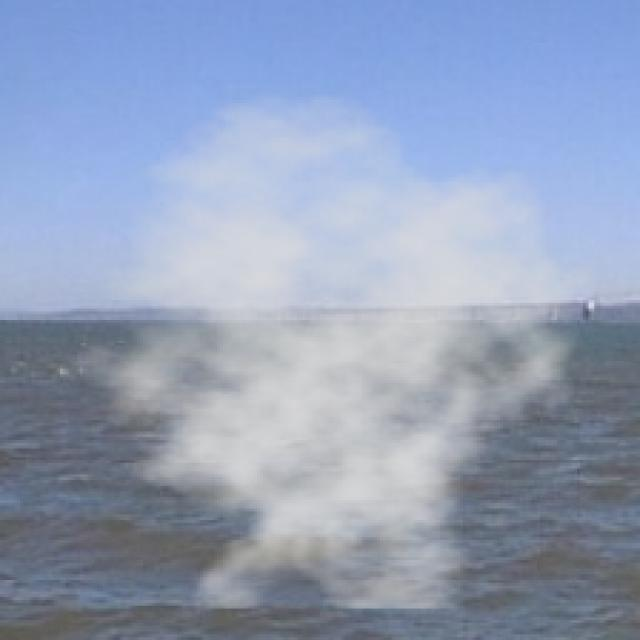smoke: (40, 91, 600, 608)
